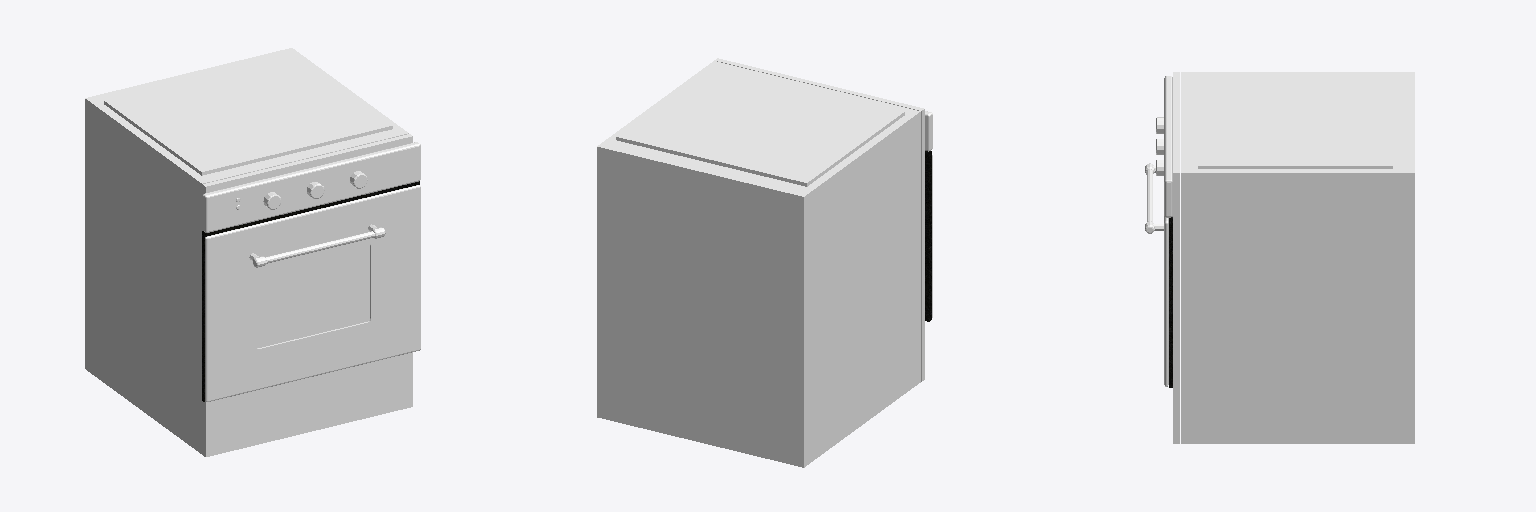
3 views of the same model, side by side, from view 1: azimuth 30°, elevation 25°; view 2: azimuth 150°, elevation 25°; view 3: azimuth 270°, elevation 25° (orthographic).
Visible parts, largest first — view 1: cooker; view 2: cooker; view 3: cooker.
Boxes of the visible parts, x1=… form: cooker: x1=85, y1=48, x2=420, y2=456; cooker: x1=597, y1=58, x2=932, y2=467; cooker: x1=1145, y1=72, x2=1414, y2=443.
Size of the model in its own units: 0.9384 by 1.14 by 1.02.
8 materials, 1 textured.